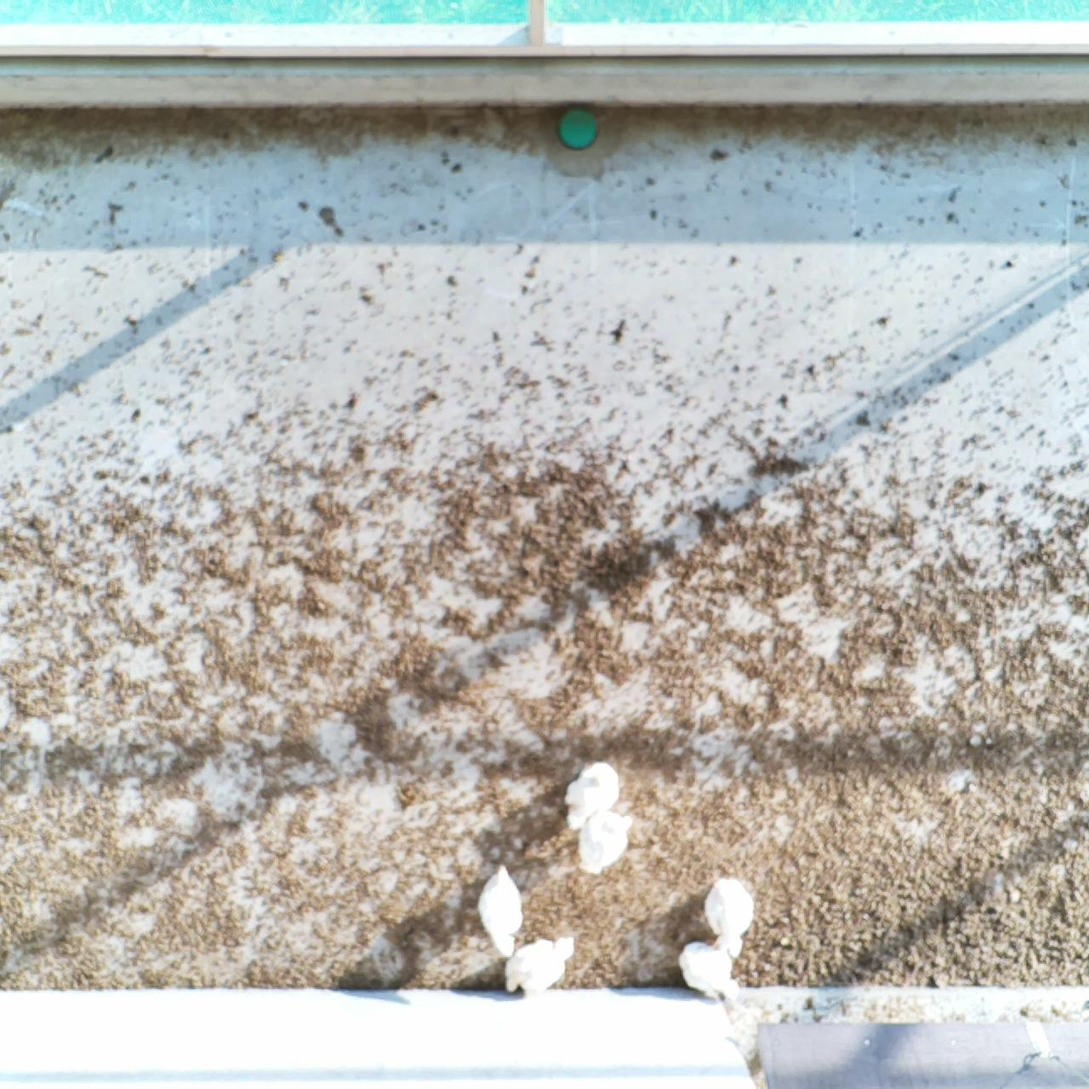chicken: (475, 861, 527, 961), (500, 933, 579, 998), (562, 755, 624, 836), (703, 874, 757, 963), (676, 937, 746, 1004), (576, 806, 638, 878)
